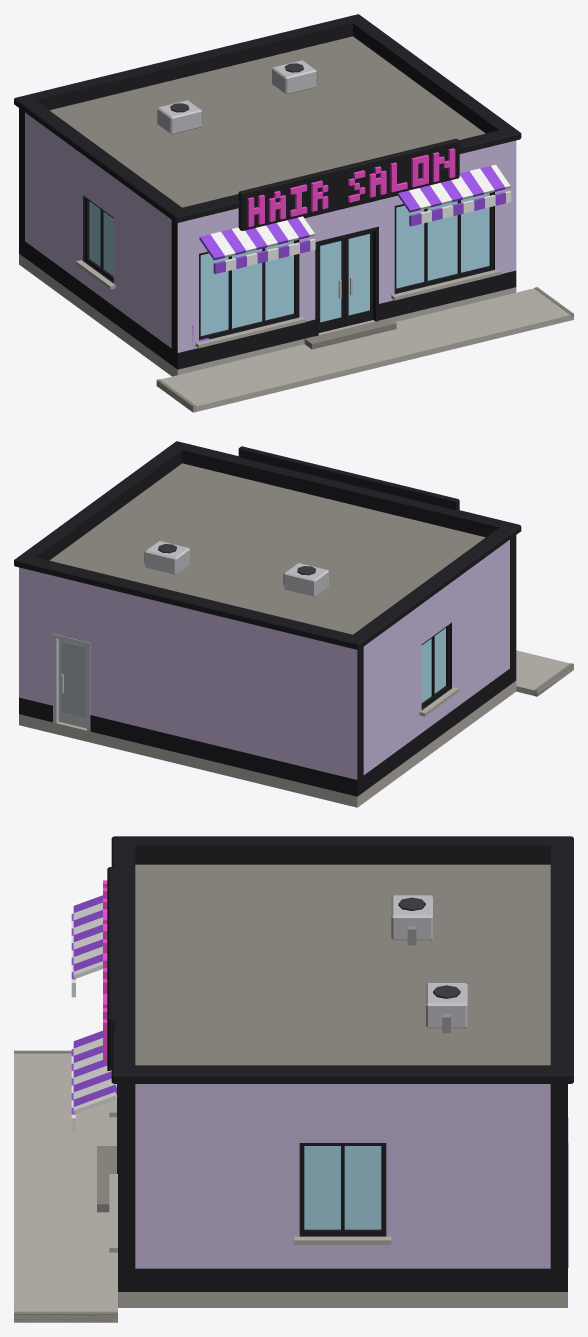
File: HairSalon.fbx
The picture shows the model from 3 angles, top to bottom: view 1: azimuth 30°, elevation 25°; view 2: azimuth 150°, elevation 25°; view 3: azimuth 270°, elevation 25°; orthographic projection. The views are drawn at different scales.
Parts seen in each view (by area): view 1: HairSalon, HairSalon_Roof, HairSalon_Glass, HairSalon_Sign, HairSalon_DoorR, HairSalon_DoorL; view 2: HairSalon, HairSalon_Roof, HairSalon_Sign, HairSalon_BackDoor, HairSalon_Glass; view 3: HairSalon, HairSalon_Roof, HairSalon_Glass, HairSalon_Sign.
Boxes of the visible parts, box(x1,y1,x2,y2) form: HairSalon: box(14, 14, 573, 412); HairSalon_Roof: box(49, 36, 485, 207); HairSalon_Glass: box(89, 193, 489, 335); HairSalon_Sign: box(238, 138, 459, 230); HairSalon_DoorR: box(344, 231, 372, 326); HairSalon_DoorL: box(318, 238, 344, 332); HairSalon: box(14, 441, 573, 807); HairSalon_Roof: box(50, 463, 485, 634); HairSalon_Sign: box(238, 446, 459, 510); HairSalon_BackDoor: box(59, 639, 86, 728); HairSalon_Glass: box(421, 628, 445, 702); HairSalon: box(14, 836, 573, 1322); HairSalon_Roof: box(135, 864, 550, 1065); HairSalon_Glass: box(304, 1146, 381, 1229); HairSalon_Sign: box(103, 867, 115, 1070).
Size of the model in its own units: 36 by 15.86 by 32.35.
1 material, 1 textured.
